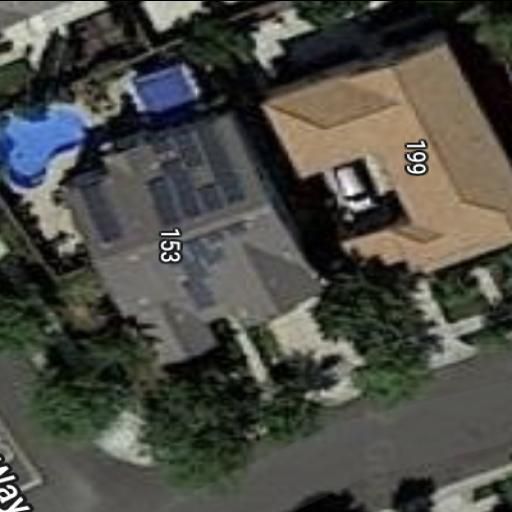Slope-Roof: (266, 44, 509, 274)
Solar-Slope-Roof: (59, 112, 316, 365)
